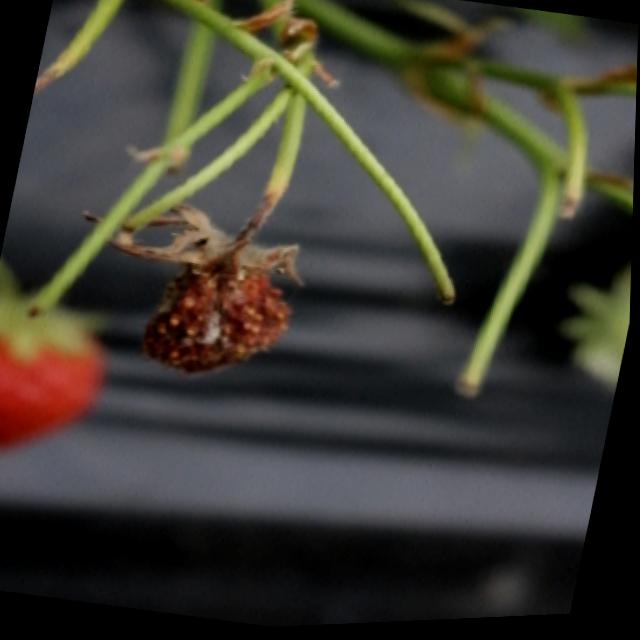Gray Mold: (111, 204, 304, 379)
